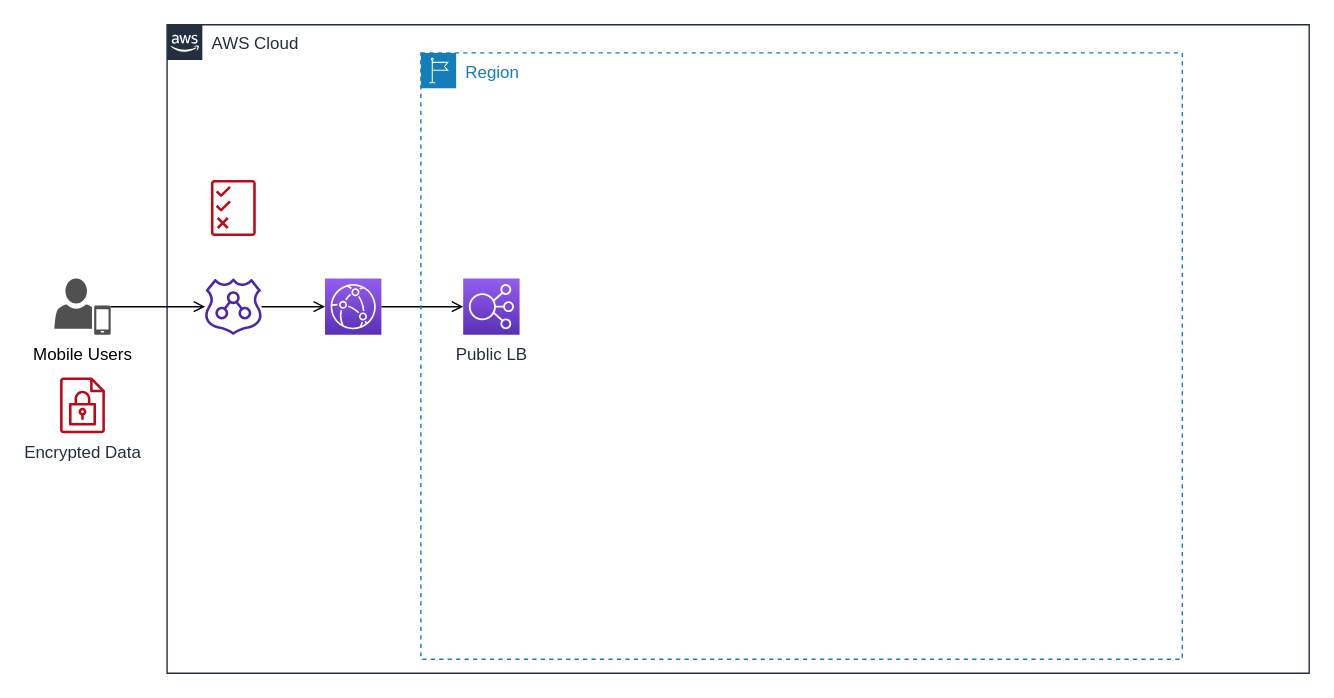
Some shapes in this 1334 by 698 pixel diagram are drawn without their labels. Here are the shapes that lost their labels. From the top down, the box of each, then its label:
(210, 179, 255, 235): Permission
(204, 278, 261, 334): Route53
(324, 277, 381, 335): Cloud Front CDN
